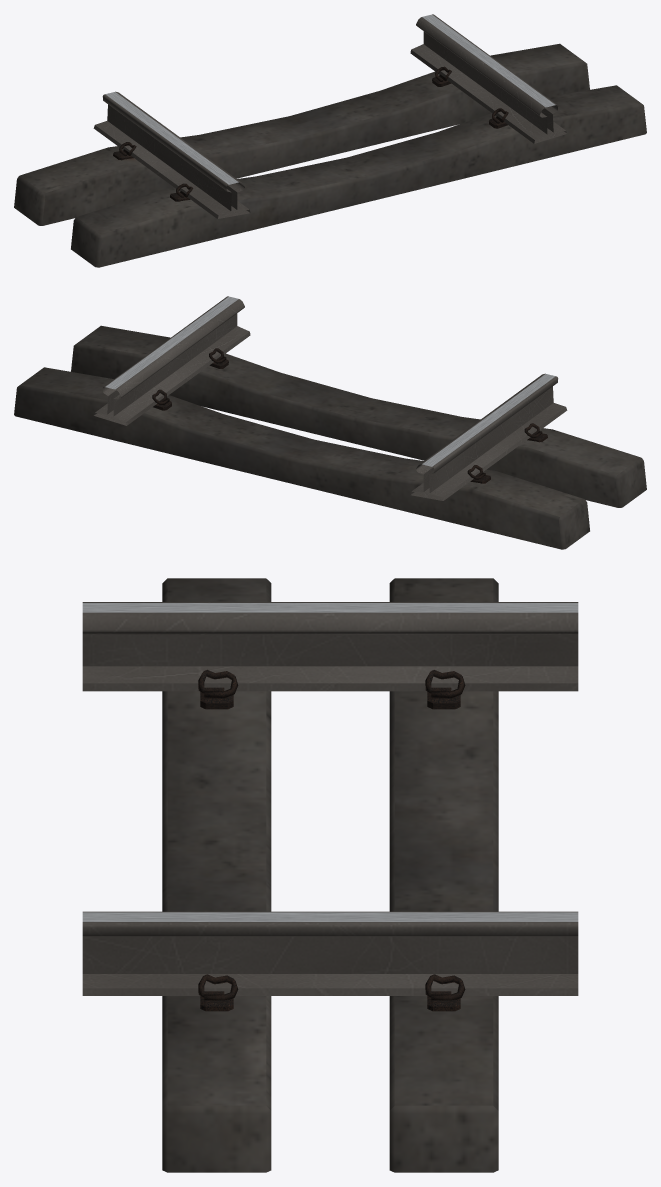
File: uk_track.obj
3 renders of one model, top to bottom at view 1: azimuth 30°, elevation 25°; view 2: azimuth 150°, elevation 25°; view 3: azimuth 270°, elevation 25°, orthographic. The views are drawn at different scales.
Visible parts, largest first — view 1: Full_LOD0_LOD0.013, Full_LOD0_LOD0.010, Full_LOD0_LOD0.006; view 2: Full_LOD0_LOD0.010, Full_LOD0_LOD0.013, Full_LOD0_LOD0.006; view 3: Full_LOD0_LOD0.006, Full_LOD0_LOD0.013, Full_LOD0_LOD0.010, Full_LOD0_LOD0.014, Full_LOD0_LOD0.012, Full_LOD0_LOD0.011, Full_LOD0_LOD0.015.
Boxes of the visible parts, x1,y1,x2,y2 form: Full_LOD0_LOD0.013: (71, 85, 646, 267); Full_LOD0_LOD0.010: (14, 43, 589, 225); Full_LOD0_LOD0.006: (93, 14, 567, 218); Full_LOD0_LOD0.010: (14, 367, 589, 549); Full_LOD0_LOD0.013: (71, 325, 646, 507); Full_LOD0_LOD0.006: (93, 296, 567, 500); Full_LOD0_LOD0.006: (82, 602, 578, 995); Full_LOD0_LOD0.013: (162, 578, 271, 1172); Full_LOD0_LOD0.010: (389, 578, 498, 1172); Full_LOD0_LOD0.014: (198, 669, 238, 1000); Full_LOD0_LOD0.012: (425, 670, 465, 1000); Full_LOD0_LOD0.011: (427, 692, 460, 1011); Full_LOD0_LOD0.015: (200, 692, 233, 1011).
Size of the model in its own units: 2.63 by 0.3213 by 1.02.
Materials: 4 (4 with a texture image).
